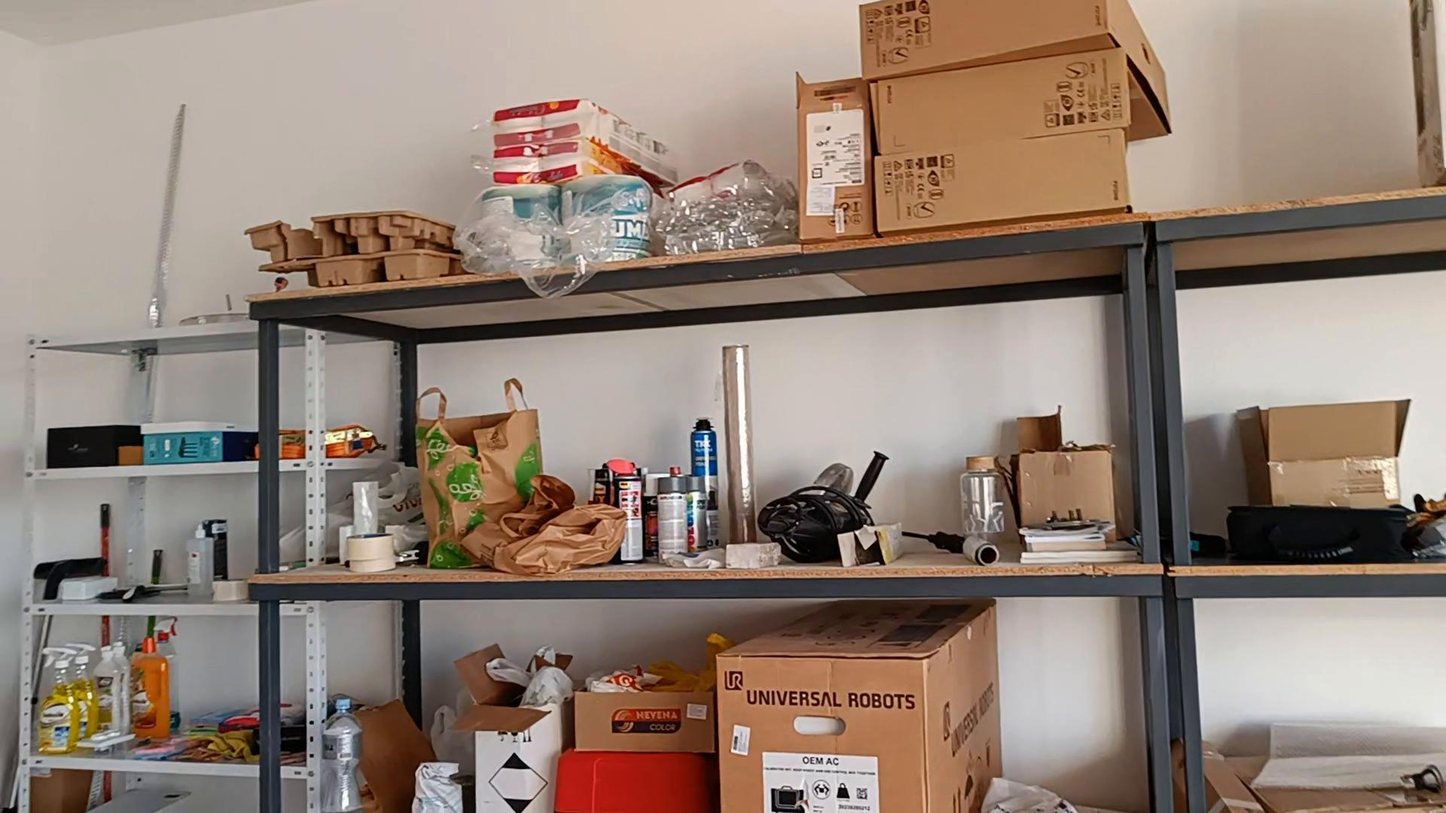wall: (0, 0, 860, 805), (317, 269, 1139, 528), (1153, 242, 1445, 533), (1128, 0, 1445, 210), (1177, 602, 1445, 743), (406, 604, 779, 705), (1004, 602, 1156, 808)
